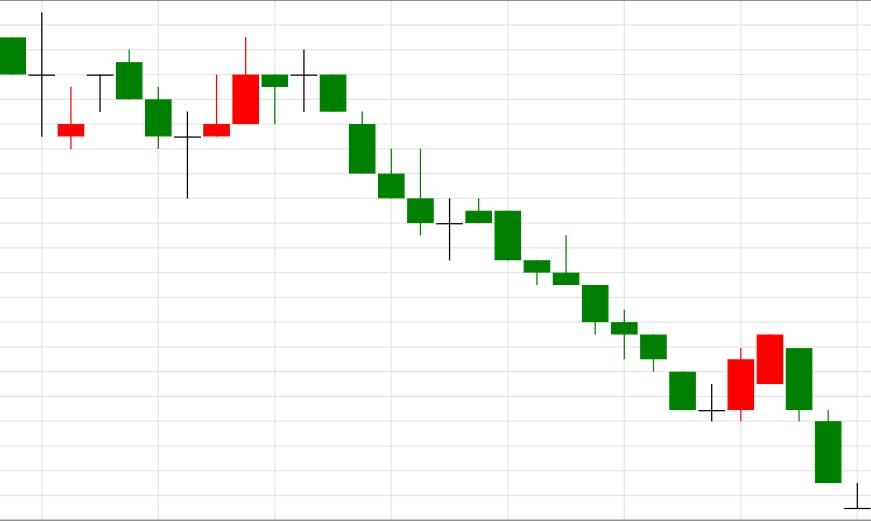three_black_crows_fall: (174, 36, 405, 197)
